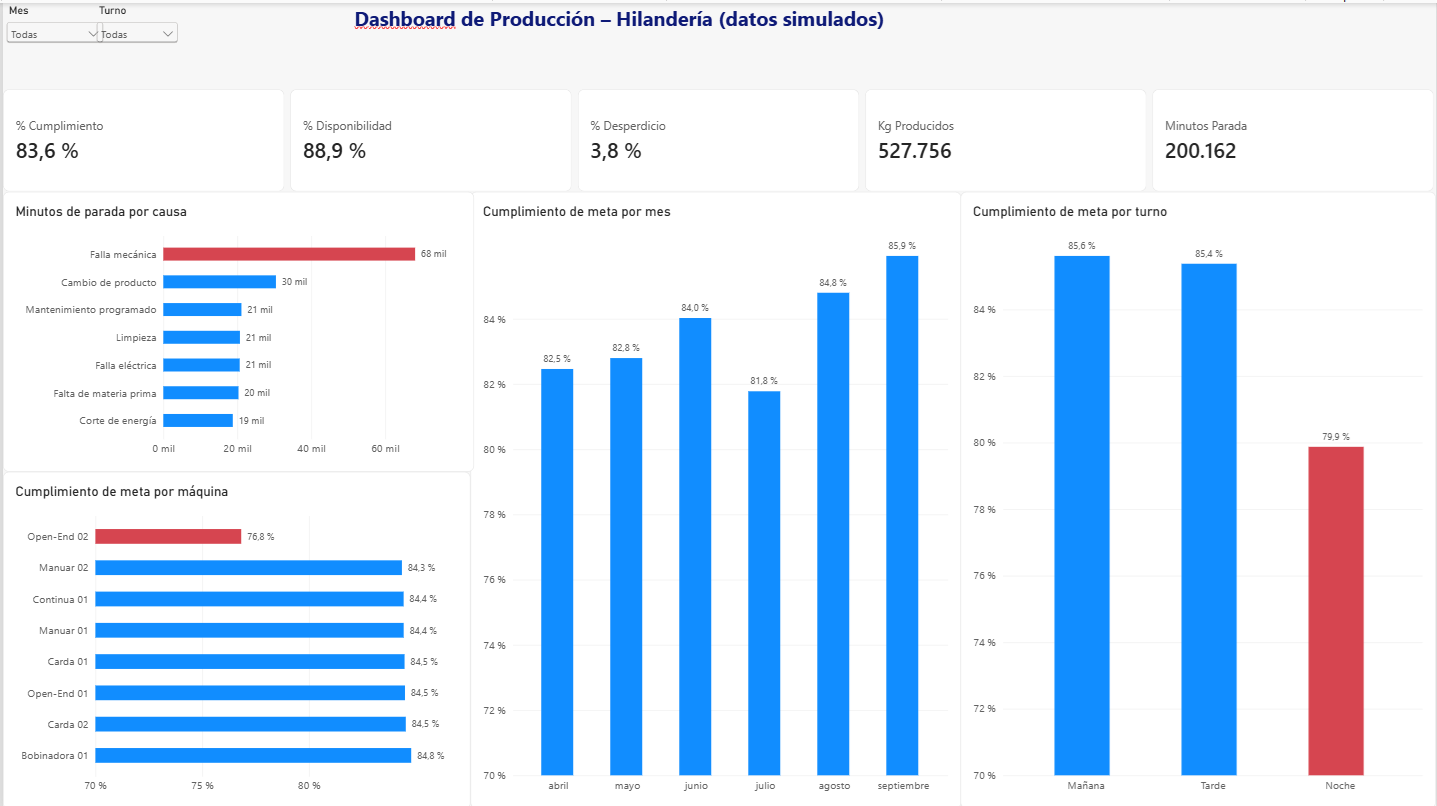

Layout of this report page (visuals, bound fields, positions):
{"tool":"powerbi","page":{"name":"Página 1","canvas":[1920,1080],"ordinal":0},"visuals":[{"type":"cardVisual","fields":{"Data":["Produccion.% Cumplimiento","Produccion.% Disponibilidad","Produccion.% Desperdicio","Produccion.Kg Producidos","Produccion.Minutos Parada"]},"box":[0,115.1,1920.4,137.8],"z":0},{"type":"clusteredColumnChart","title":"Cumplimiento de meta por mes","fields":{"Category":["Calendario.Mes"],"Y":["Produccion.% Cumplimiento"]},"box":[626.2,252.9,657.6,826.7],"z":1000},{"type":"clusteredBarChart","title":"Cumplimiento de meta por máquina","fields":{"Category":["Maquinas.Maquina"],"Y":["Produccion.% Cumplimiento"]},"box":[0,627.9,626.2,451.7],"z":2000},{"type":"clusteredColumnChart","title":"Cumplimiento de meta por turno","fields":{"Category":["Turnos.Turno"],"Y":["Produccion.% Cumplimiento"]},"box":[1283.7,252.9,636.6,826.7],"z":3000},{"type":"clusteredBarChart","title":"Minutos de parada por causa","fields":{"Category":["Paradas.Causa"],"Y":["Produccion.Minutos Parada"]},"box":[0,252.9,631.4,375],"z":4000},{"type":"slicer","fields":{"Values":["Calendario.Mes"]},"box":[0,1.7,139.5,69.8],"z":5000},{"type":"slicer","fields":{"Values":["Turnos.Turno"]},"box":[120.3,1.7,118.6,68],"z":6000},{"type":"textbox","box":[470.9,1.7,739.5,52.3],"z":7000}]}

Visuals, with their boxes in screenshot pixels (x1, y1, x2, y2), scaled from the page's 1920x1080 canvas onto the 1437x806 screenshot:
cardVisual - Produccion.% Cumplimiento x Produccion.% Disponibilidad: x1=0 y1=86 x2=1436 y2=189
"Cumplimiento de meta por mes" clusteredColumnChart: x1=469 y1=189 x2=961 y2=805
"Cumplimiento de meta por máquina" clusteredBarChart: x1=0 y1=469 x2=469 y2=805
"Cumplimiento de meta por turno" clusteredColumnChart: x1=961 y1=189 x2=1436 y2=805
"Minutos de parada por causa" clusteredBarChart: x1=0 y1=189 x2=473 y2=469
slicer - Calendario.Mes: x1=0 y1=1 x2=104 y2=53
slicer - Turnos.Turno: x1=90 y1=1 x2=179 y2=52
textbox: x1=352 y1=1 x2=906 y2=40
